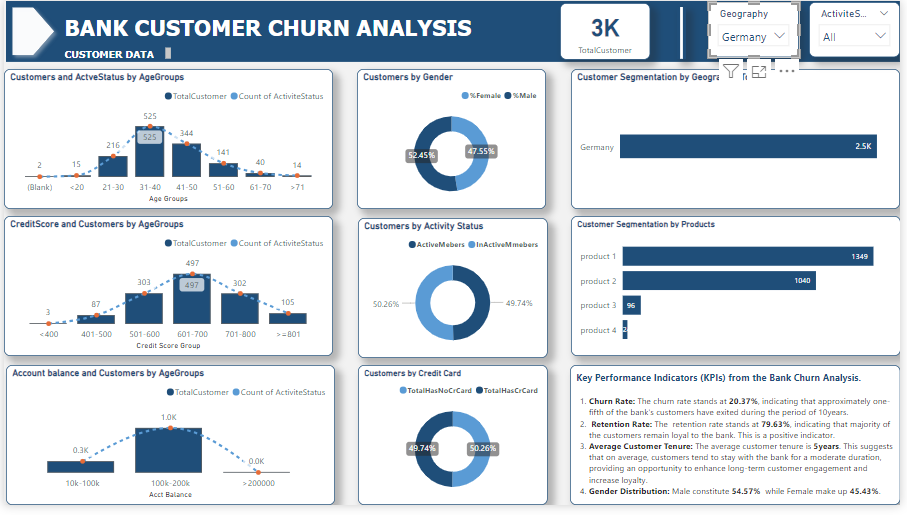

What the dashboard file says about the page in this screenshot:
{"tool":"powerbi","page":{"name":"Page 1","canvas":[1280,720],"ordinal":0},"visuals":[{"type":"shape","box":[2.9,0,1277.1,87.1],"z":0},{"type":"barChart","title":"Customer Segmentation by Geography (Top 5)","fields":{"Category":["Customer_Info.Geography"],"Y":["Customer_Info.TotalCustomer"]},"box":[810,97.1,470,200],"z":1000},{"type":"lineClusteredColumnComboChart","title":"Customers and ActveStatus by AgeGroups","fields":{"Y":["Customer_Info.TotalCustomer"],"Y2":["CountNonNull(Account_Info.IsActiveMember)"],"Category":["Age Group.Age Groups"]},"box":[0,97.8,470,199.8],"z":2000},{"type":"donutChart","title":"Customers by Gender ","fields":{"Y":["Customer_Info.%Female","Customer_Info.%Female","Customer_Info.%Male","Customer_Info.%Male"]},"box":[504.3,97.1,270,200],"z":3000},{"type":"slicer","fields":{"Values":["Customer_Info.Geography"]},"box":[1006.3,1.4,130.4,79.4],"z":5000},{"type":"card","fields":{"Values":["Customer_Info.TotalCustomer"]},"box":[794.3,2.9,128.6,81.4],"z":6000},{"type":"donutChart","title":"Customers by Activity Status","fields":{"Y":["Account_Info.TotalActiveMmebers","Account_Info.TotalIsNotActiveMmebers"]},"box":[506.1,310.4,270.7,199.8],"z":7000},{"type":"donutChart","title":"Customers by Credit Card","fields":{"Y":["Account_Info.TotalHasNoCrCard","Account_Info.TotalHasNoCrCard","Account_Info.TotalHasCrCard"]},"box":[505.7,520.2,270.7,199.8],"z":8000},{"type":"barChart","title":"Customer Segmentation by Products","fields":{"Y":["Customer_Info.TotalCustomer"],"Category":["Account_Info.Products"]},"box":[809.4,307.6,470.6,199.8],"z":9000},{"type":"lineClusteredColumnComboChart","title":"CreditScore and Customers by AgeGroups","fields":{"Y":["Customer_Info.TotalCustomer"],"Y2":["CountNonNull(Account_Info.IsActiveMember)"],"Category":["CreditScoreGroup.Credit Score Group"]},"box":[0,307.6,470,199.8],"z":10000},{"type":"lineClusteredColumnComboChart","title":"Account balance and Customers by AgeGroups","fields":{"Y":["Customer_Info.TotalCustomer"],"Y2":["CountNonNull(Account_Info.IsActiveMember)"],"Category":["Acct Balance.Acct Balance"]},"box":[2.8,520.2,470,199.8],"z":11000},{"type":"slicer","fields":{"Values":["Account_Info.ActiviteStatus"]},"box":[1149.4,1.4,130.4,79.4],"z":12000},{"type":"textbox","box":[80.8,12.8,612.3,68],"z":13000},{"type":"textbox","box":[808,520,472,200],"z":14000},{"type":"shape","box":[2.8,0,78,86.5],"z":15000},{"type":"shape","box":[961.4,8.6,12.9,74.3],"z":16000},{"type":"textbox","box":[80.8,60.9,161.6,26.9],"z":18000}]}

Visuals, with their boxes in screenshot pixels (x1, y1, x2, y2), scaled from the page's 1280x720 canvas onto the 907x515 screenshot:
shape: x1=2, y1=0, x2=906, y2=62
"Customer Segmentation by Geography (Top 5)" barChart: x1=574, y1=69, x2=906, y2=213
"Customers and ActveStatus by AgeGroups" lineClusteredColumnComboChart: x1=0, y1=70, x2=333, y2=213
"Customers by Gender " donutChart: x1=357, y1=69, x2=549, y2=213
slicer - Customer_Info.Geography: x1=713, y1=1, x2=805, y2=58
card - Customer_Info.TotalCustomer: x1=563, y1=2, x2=654, y2=60
"Customers by Activity Status" donutChart: x1=359, y1=222, x2=550, y2=365
"Customers by Credit Card" donutChart: x1=358, y1=372, x2=550, y2=514
"Customer Segmentation by Products" barChart: x1=574, y1=220, x2=906, y2=363
"CreditScore and Customers by AgeGroups" lineClusteredColumnComboChart: x1=0, y1=220, x2=333, y2=363
"Account balance and Customers by AgeGroups" lineClusteredColumnComboChart: x1=2, y1=372, x2=335, y2=514
slicer - Account_Info.ActiviteStatus: x1=814, y1=1, x2=906, y2=58
textbox: x1=57, y1=9, x2=491, y2=58
textbox: x1=573, y1=372, x2=906, y2=514
shape: x1=2, y1=0, x2=57, y2=62
shape: x1=681, y1=6, x2=690, y2=59
textbox: x1=57, y1=44, x2=172, y2=63
